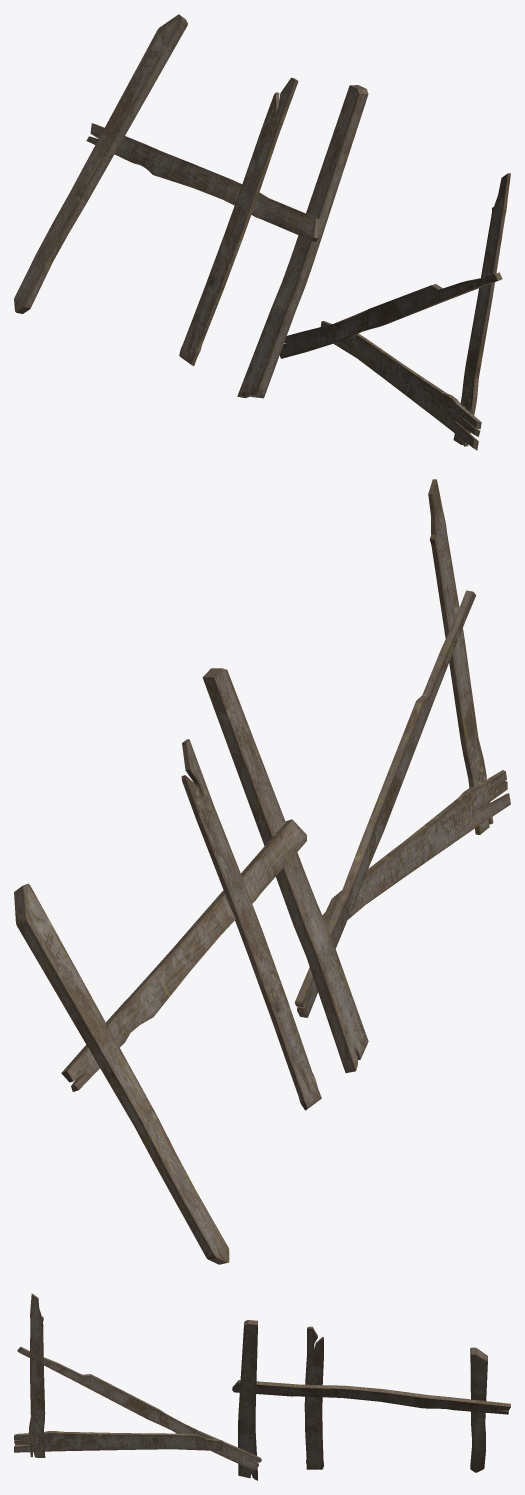
Rendered from SM_fence_02.fbx.
3 views of the same model, one above another, from view 1: azimuth 30°, elevation 25°; view 2: azimuth 150°, elevation 25°; view 3: azimuth 270°, elevation 25° (orthographic). The views are drawn at different scales.
Visible parts, largest first — view 1: SM_fence_02_LOD0; view 2: SM_fence_02_LOD0; view 3: SM_fence_02_LOD0.
Boxes of the visible parts, box(x1,y1,x2,y2) form: SM_fence_02_LOD0: box(14, 14, 510, 450); SM_fence_02_LOD0: box(14, 479, 510, 1264); SM_fence_02_LOD0: box(14, 1293, 510, 1480).
Size of the model in its own units: 102 by 354 by 182.
